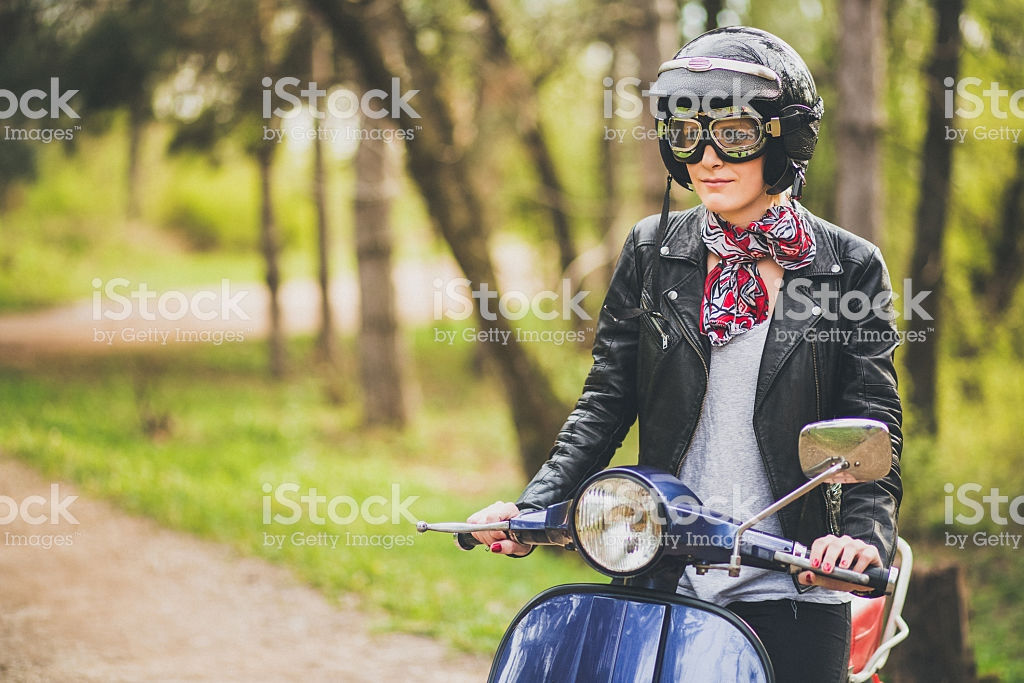helmet: (643, 22, 838, 167)
